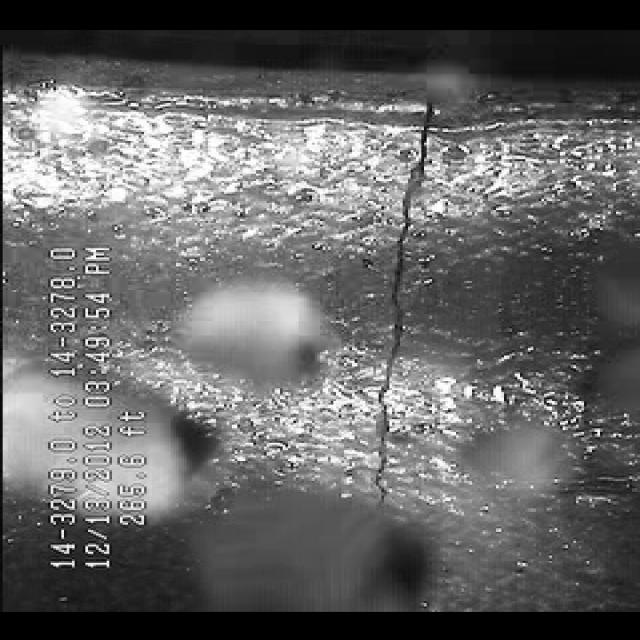Crack: (297, 120, 480, 518)
